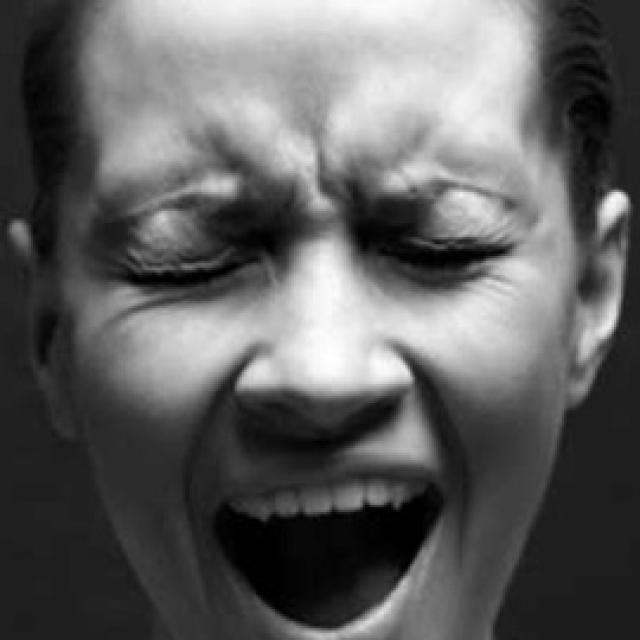Eyeclosed: (385, 232, 511, 286), (114, 250, 255, 298)
